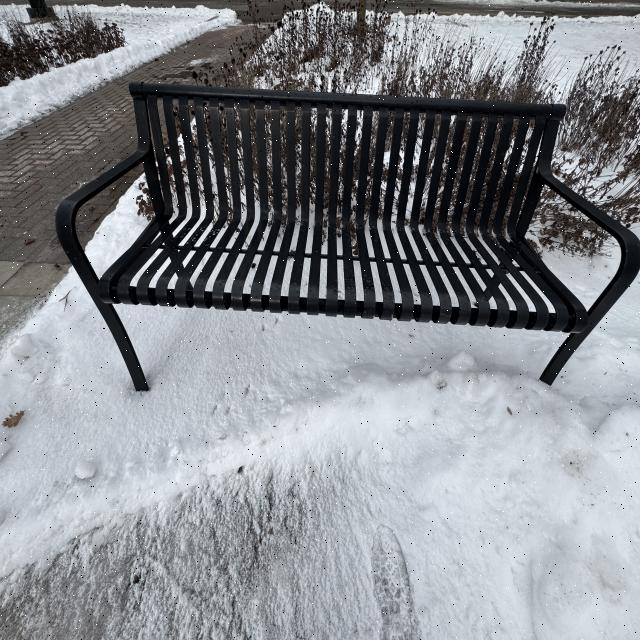Bench: (56, 72, 640, 387)
